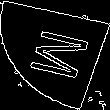M_E: (17, 26, 93, 84)
